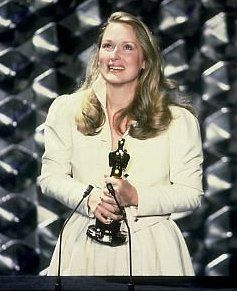hand: (88, 193, 122, 219)
